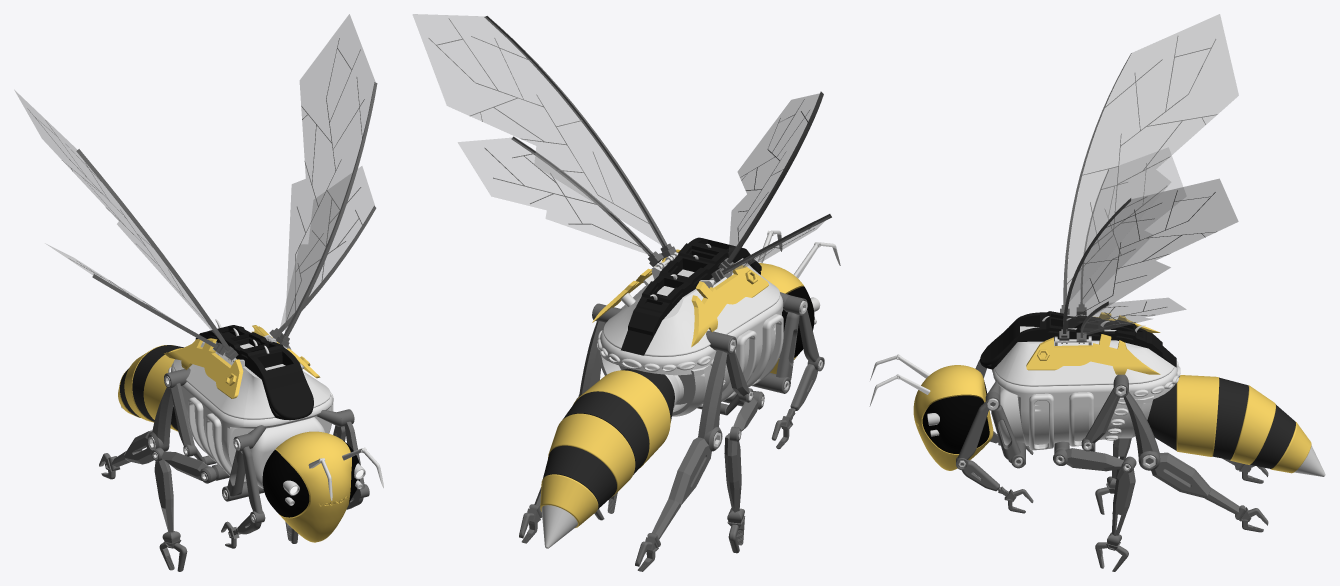
Rendered from bee.glb.
The picture shows the model from 3 angles, left to right: view 1: azimuth 30°, elevation 25°; view 2: azimuth 150°, elevation 25°; view 3: azimuth 270°, elevation 25°; orthographic projection. The views are drawn at different scales.
Visible parts, largest first — view 1: Body47.001, Body4.001, Body63.001, Body1.034, Body23.001, Body64.001, Body1.033, Body193.001, Body139.001, Body140.001, Body202.001, Body196.001 (+5 smaller); view 2: Body47.001, Body4.001, Body63.001, Body23.001, Body141.001, Body139.001, Body64.001, Body140.001, Body142.001, Body143.001, Body202.001, Body203.001 (+13 smaller); view 3: Body63.001, Body47.001, Body4.001, Body23.001, Body139.001, Body1.034, Body30.001, Body1.044, Body140.001, Body141.001, Body82.001, Body142.001 (+9 smaller).
Part boxes in pixels (x1,y1,x2,y2): Body47.001: (267, 14, 377, 347); Body4.001: (171, 341, 333, 488); Body63.001: (14, 90, 238, 363); Body1.034: (275, 431, 351, 542); Body23.001: (195, 325, 313, 420); Body64.001: (164, 338, 243, 398); Body1.033: (262, 450, 309, 517); Body193.001: (164, 368, 216, 465); Body139.001: (143, 348, 182, 431); Body140.001: (132, 345, 183, 421); Body202.001: (147, 387, 173, 451); Body196.001: (151, 447, 207, 480); Body47.001: (413, 14, 676, 269); Body4.001: (600, 258, 783, 404); Body63.001: (710, 91, 831, 284); Body23.001: (621, 237, 761, 355); Body141.001: (548, 413, 635, 496); Body139.001: (573, 370, 670, 468); Body64.001: (691, 265, 768, 347); Body140.001: (562, 391, 649, 474); Body142.001: (543, 445, 616, 508); Body143.001: (540, 474, 598, 527); Body202.001: (698, 350, 727, 451); Body203.001: (668, 437, 711, 505); Body63.001: (1060, 14, 1238, 316); Body47.001: (1057, 178, 1238, 343); Body4.001: (993, 326, 1177, 450); Body23.001: (980, 311, 1176, 369); Body139.001: (1176, 375, 1219, 456); Body1.034: (913, 365, 993, 470); Body30.001: (1026, 334, 1160, 374); Body1.044: (922, 395, 989, 453); Body140.001: (1213, 377, 1248, 459); Body141.001: (1230, 385, 1275, 464); Body82.001: (1151, 452, 1210, 498); Body142.001: (1250, 404, 1295, 468).
Size of the model in its own units: 302 by 401 by 366.
